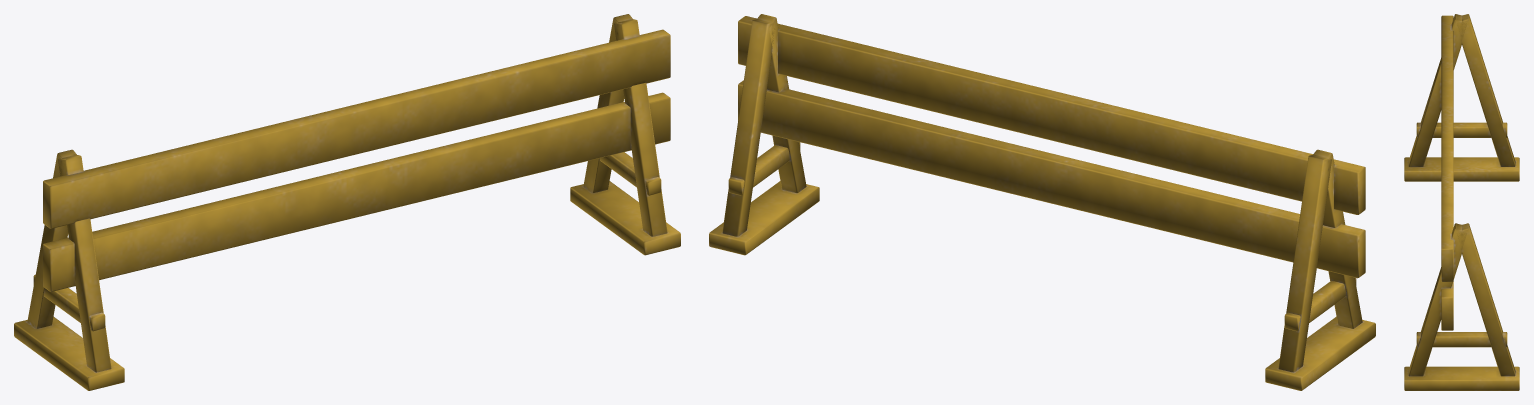
File: Barrera.fbx
The picture shows the model from 3 angles, left to right: view 1: azimuth 30°, elevation 25°; view 2: azimuth 150°, elevation 25°; view 3: azimuth 270°, elevation 25°; orthographic projection. The views are drawn at different scales.
Parts seen in each view (by area): view 1: Barrera; view 2: Barrera; view 3: Barrera.
Part boxes in pixels (x1=…): Barrera: x1=14, y1=14, x2=680, y2=390; Barrera: x1=709, y1=14, x2=1375, y2=390; Barrera: x1=1404, y1=14, x2=1519, y2=390.
Bounding box in the file's own units: 13.4 × 4.28 × 2.8.
